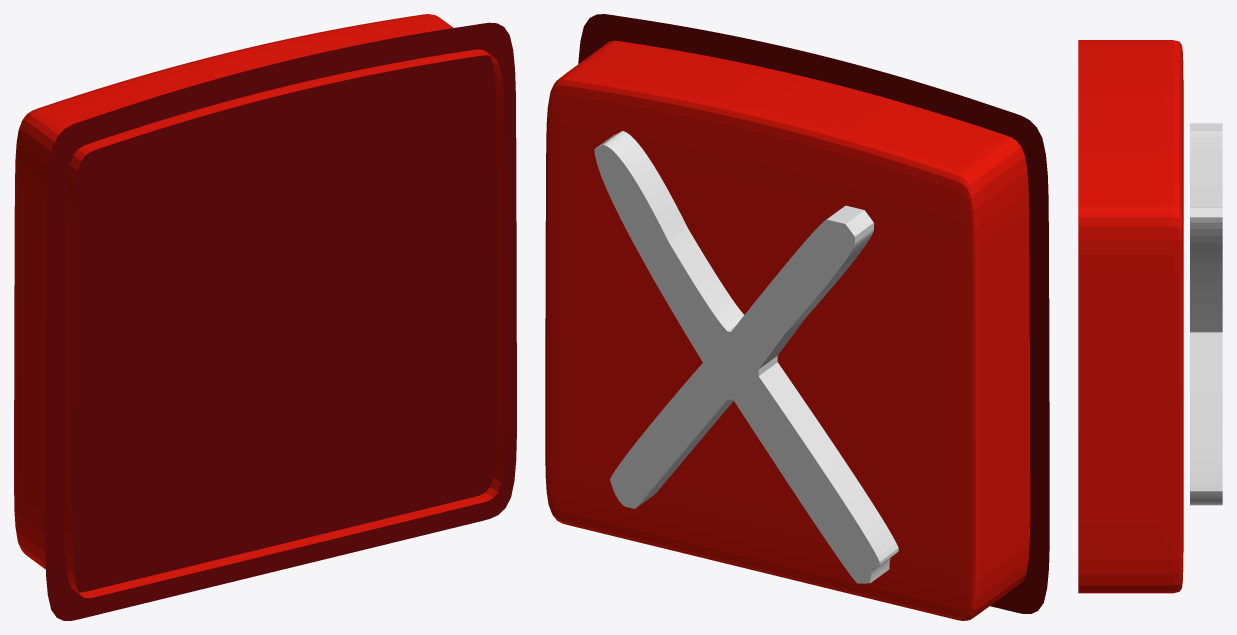
The model's file is exit_button.fbx.
The picture shows the model from 3 angles, left to right: view 1: azimuth 30°, elevation 25°; view 2: azimuth 150°, elevation 25°; view 3: azimuth 270°, elevation 25°; orthographic projection. The views are drawn at different scales.
Parts seen in each view (by area): view 1: Plane.001, Plane; view 2: Plane, Text, Plane.001; view 3: Plane, Text.
Boxes of the visible parts, x1=… form: Plane.001: x1=45, y1=22, x2=516, y2=620; Plane: x1=14, y1=14, x2=505, y2=598; Plane: x1=545, y1=40, x2=1030, y2=620; Text: x1=594, y1=131, x2=898, y2=583; Plane.001: x1=578, y1=14, x2=1049, y2=613; Plane: x1=1078, y1=40, x2=1183, y2=593; Text: x1=1190, y1=123, x2=1222, y2=505.
Size of the model in its own units: 5633 by 5796 by 1734.
